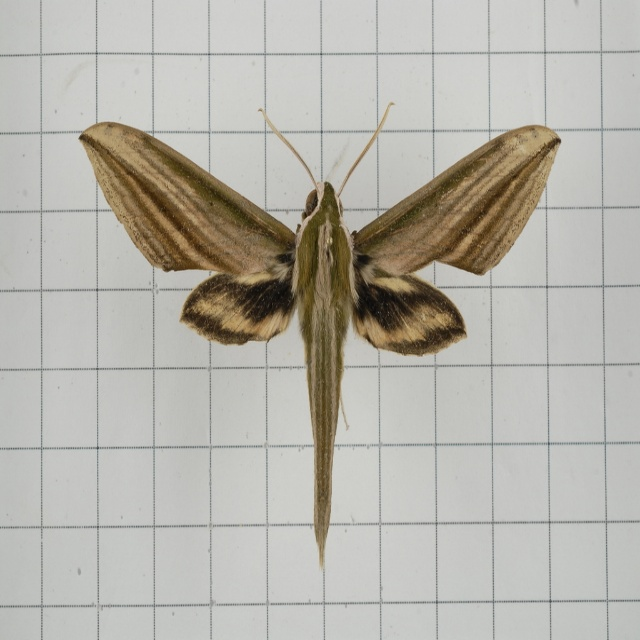Moths and butterflies: (79, 99, 560, 571)
